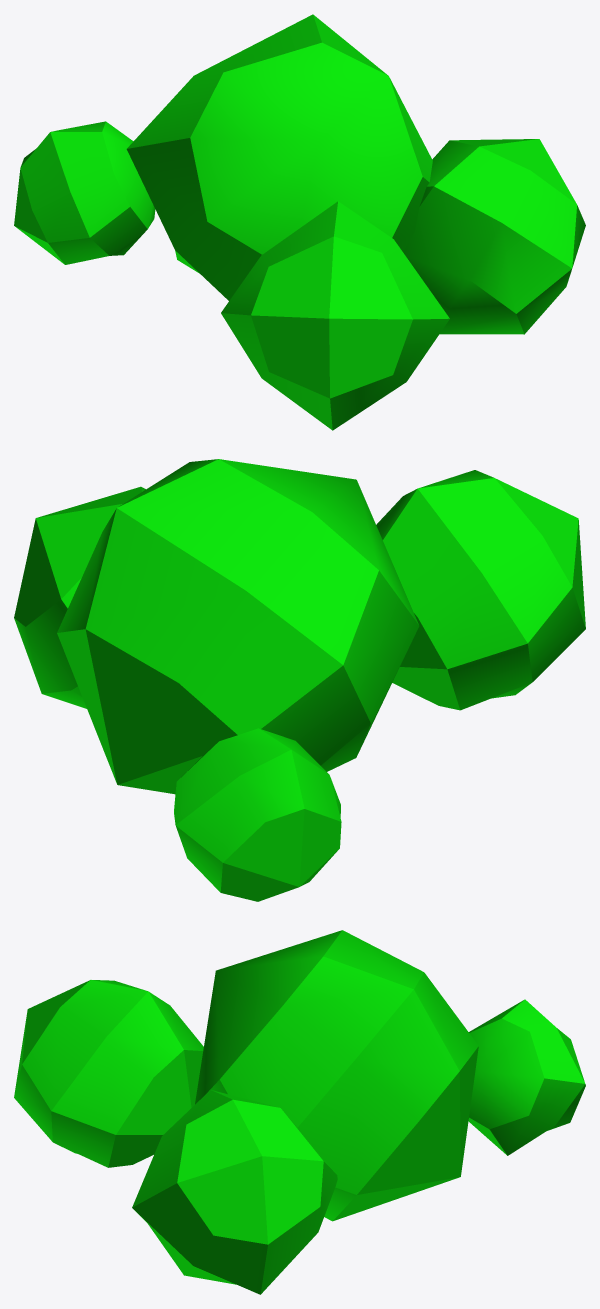
File: Prop_Plant_Mod.fbx
The picture shows the model from 3 angles, top to bottom: view 1: azimuth 30°, elevation 25°; view 2: azimuth 150°, elevation 25°; view 3: azimuth 270°, elevation 25°; orthographic projection. The views are drawn at different scales.
Visible parts, largest first — view 1: Bush_1; view 2: Bush_1; view 3: Bush_1.
Boxes of the visible parts, x1,y1,x2,y2 form: Bush_1: (14, 14, 585, 430); Bush_1: (14, 459, 585, 901); Bush_1: (14, 930, 585, 1294).
Bounding box in the file's own units: 0.8574 × 0.5751 × 1.1.
